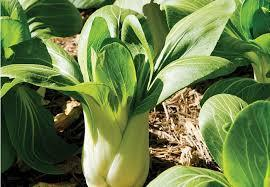Healthy-Pechay: (3, 1, 270, 185)
